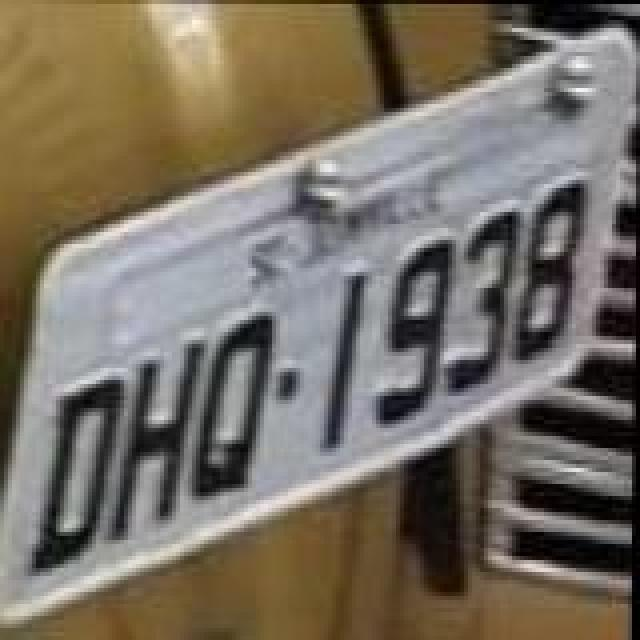1: (324, 266, 372, 458)
3: (442, 206, 526, 398)
8: (510, 180, 594, 372)
9: (374, 232, 458, 428)
D: (28, 374, 128, 570)
H: (110, 336, 206, 544)
Q: (192, 304, 280, 500)
